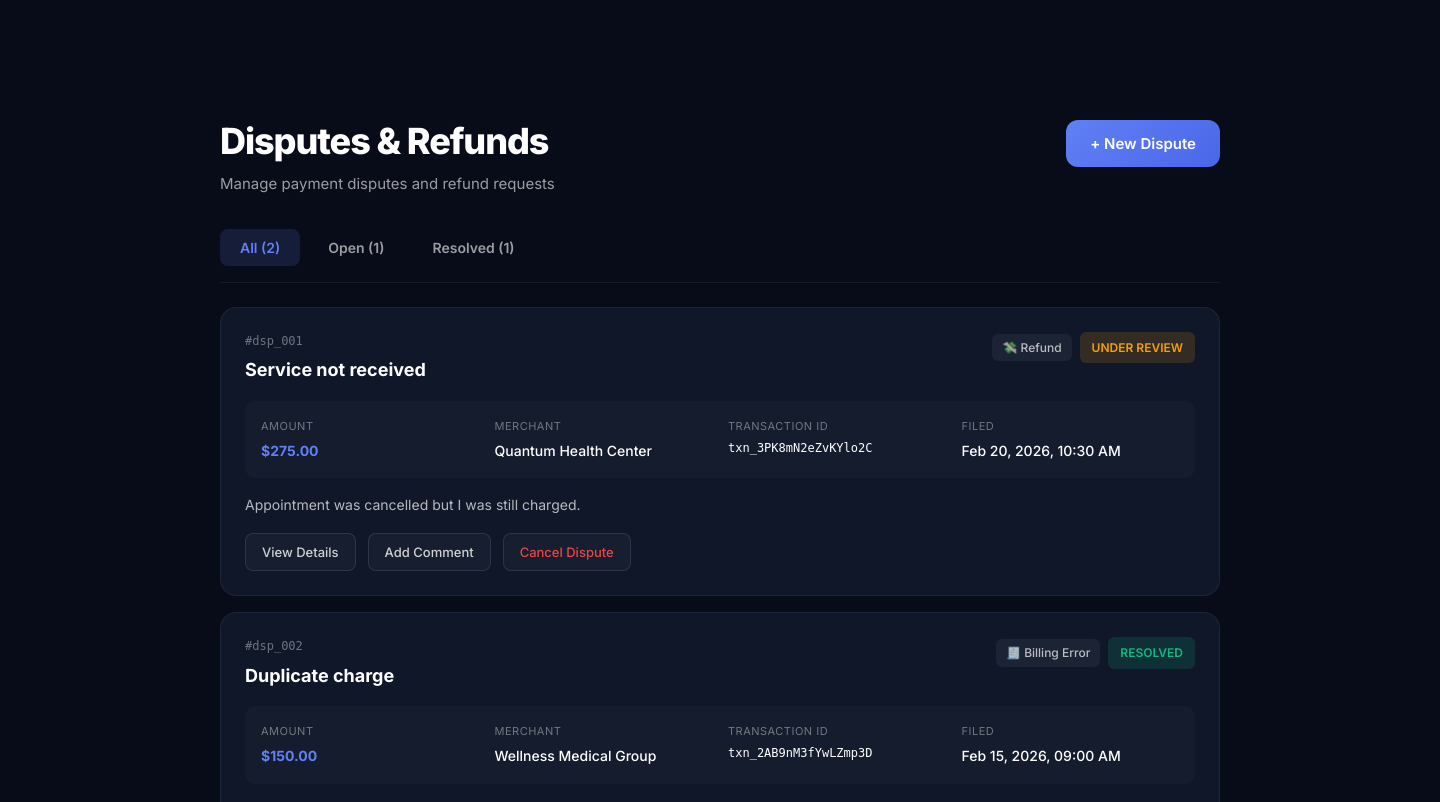
Disputes › new dispute modal › opens modal when New Dispute is clicked
Click the button "+ New Dispute" at [1143, 144], box [1066,120,1220,167]
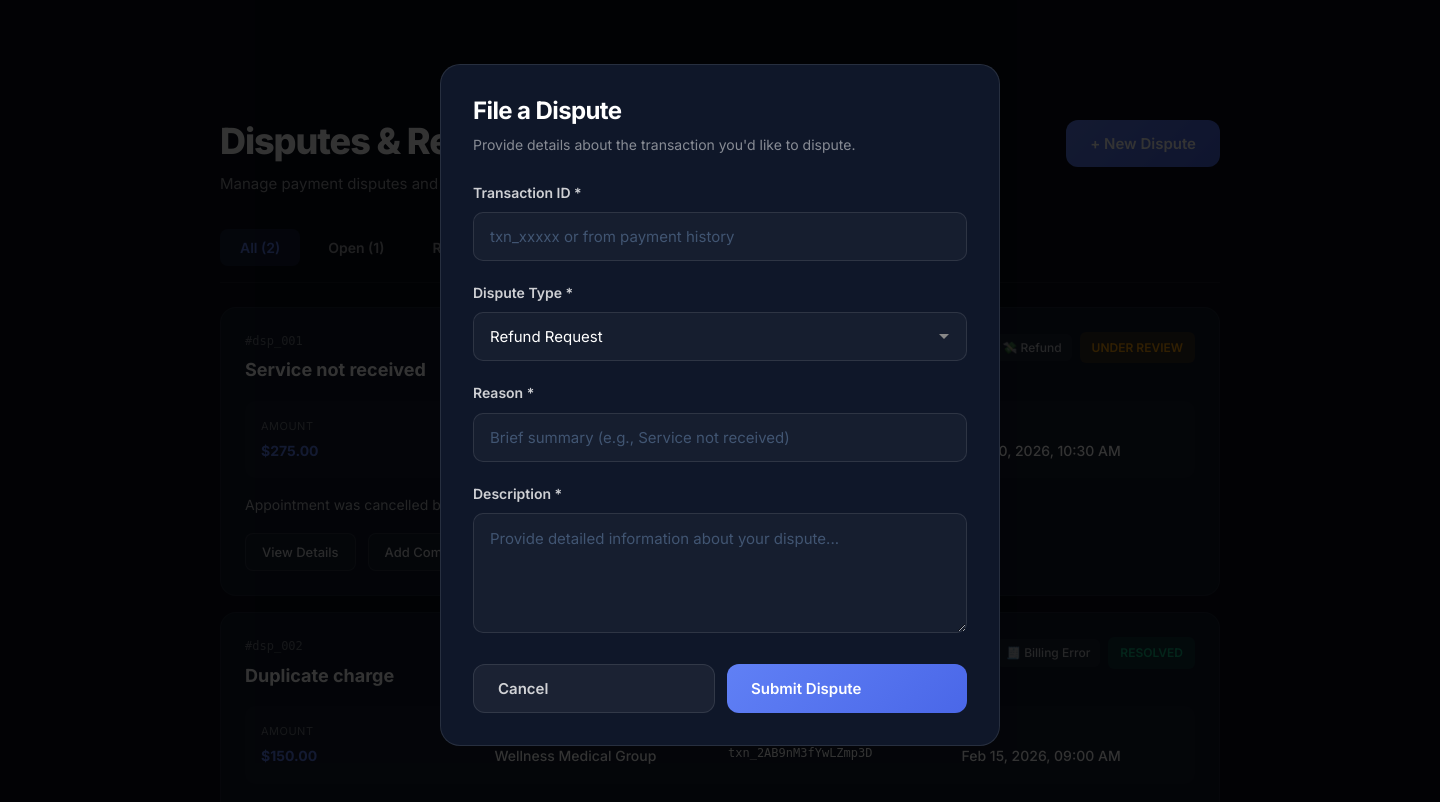
Result: the heading "File a Dispute" is shown at [473,96,622,125]
Result: the text "Provide details about the transaction you'd like to dispute." is shown at [473,136,855,153]
